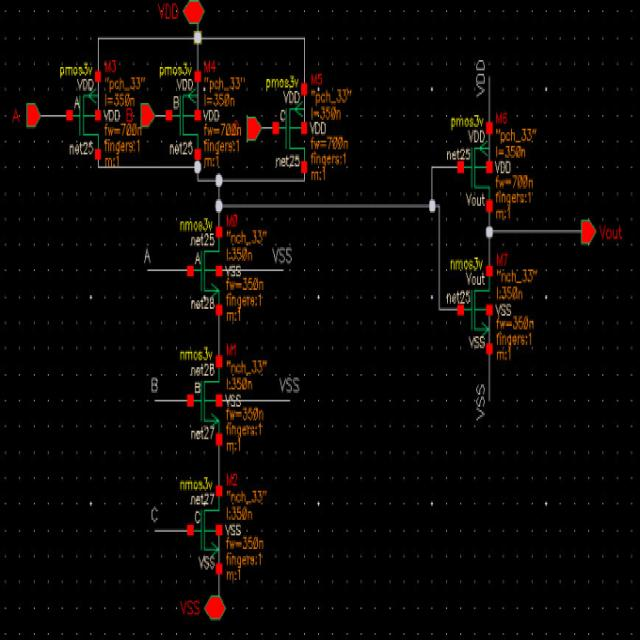nmos: (178, 217, 225, 319), (179, 473, 223, 577), (449, 258, 495, 354), (180, 348, 224, 447)
pmos: (58, 62, 104, 160), (264, 74, 308, 176), (450, 113, 494, 215), (157, 63, 202, 161)
